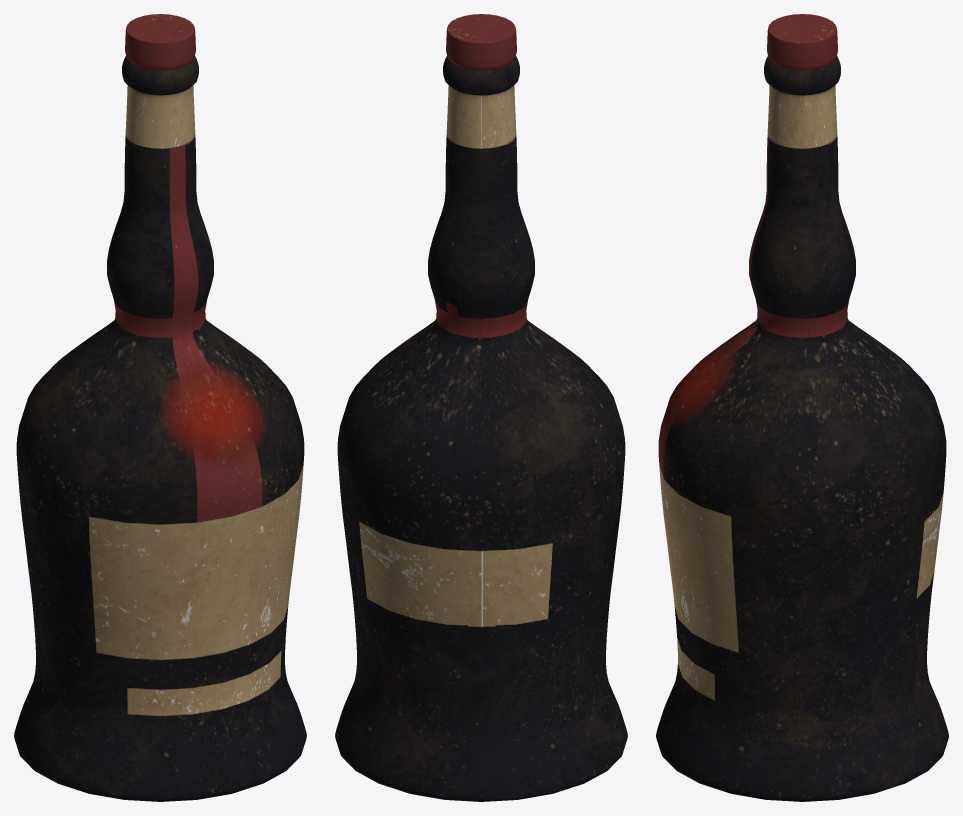
3 renders of one model, left to right at view 1: azimuth 30°, elevation 25°; view 2: azimuth 150°, elevation 25°; view 3: azimuth 270°, elevation 25°, orthographic.
Parts seen in each view (by area): view 1: Object_2; view 2: Object_2; view 3: Object_2.
Part boxes in pixels (bbox=[...]): Object_2: bbox=[14, 14, 306, 801]; Object_2: bbox=[335, 14, 627, 801]; Object_2: bbox=[656, 14, 948, 801].
Bounding box in the file's own units: 1.92 × 5.2 × 1.92.
1 material, 1 textured.
